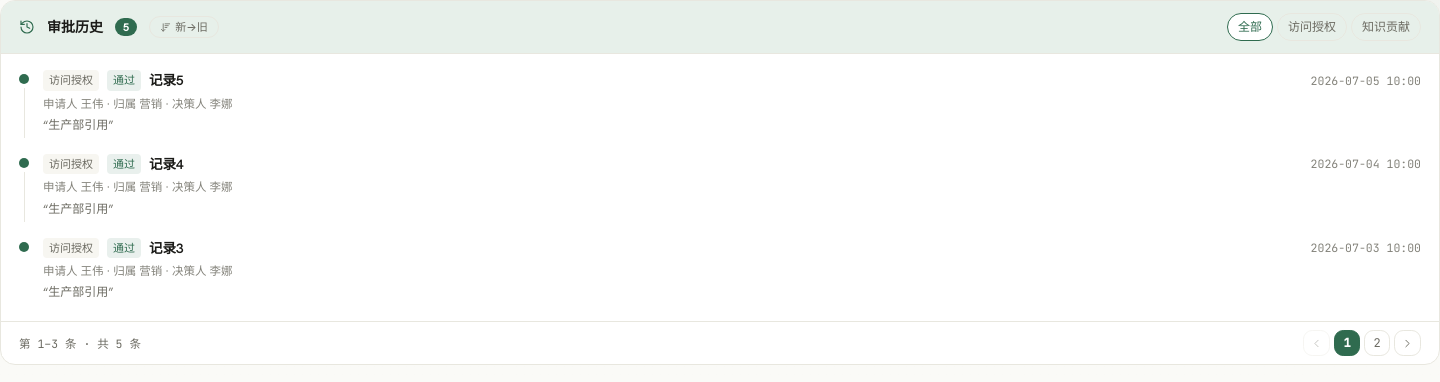
ApprovalHistory › 分页：5 条 → 3 条/页；默认新→旧；翻页脚「第 x–y 条 · 共 N 条」
Expected: the text "记录2" is not shown
Expected: the text with test id "pager-info" reads "第 1–3 条 · 共 5 条", [19, 336, 141, 351]
Click the button named "下一页". click: (1408, 343)
box: [1394, 330, 1421, 356]
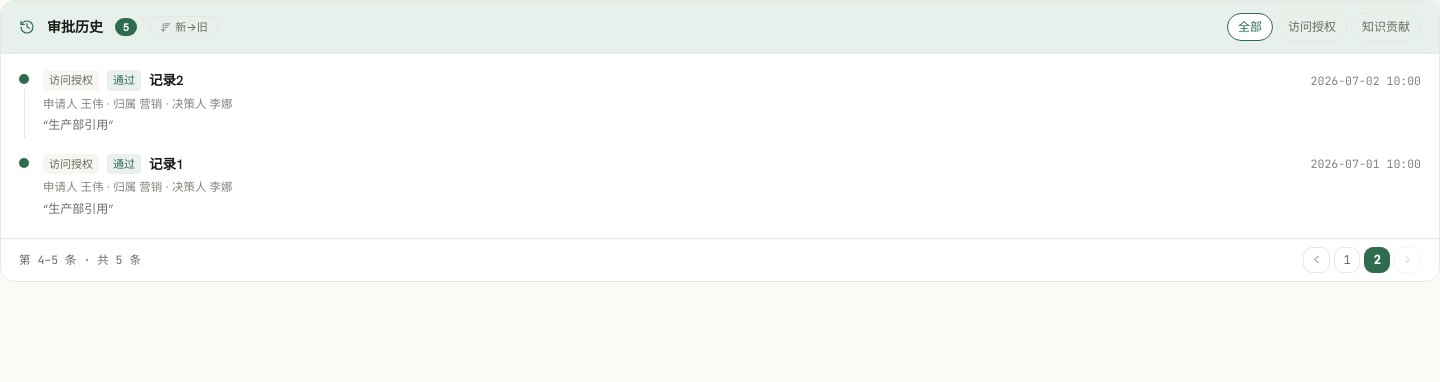
Result: the text "记录2" is shown at [149, 70, 184, 90]
Result: the text "记录1" is shown at [149, 154, 184, 174]
Result: the text with test id "pager-info" reads "第 4–5 条 · 共 5 条" at [19, 252, 141, 267]
排序切换 → 旧→新 + 回第 1 页
Click the button with test id "queue-sort". click: (184, 27)
box: [149, 16, 219, 38]
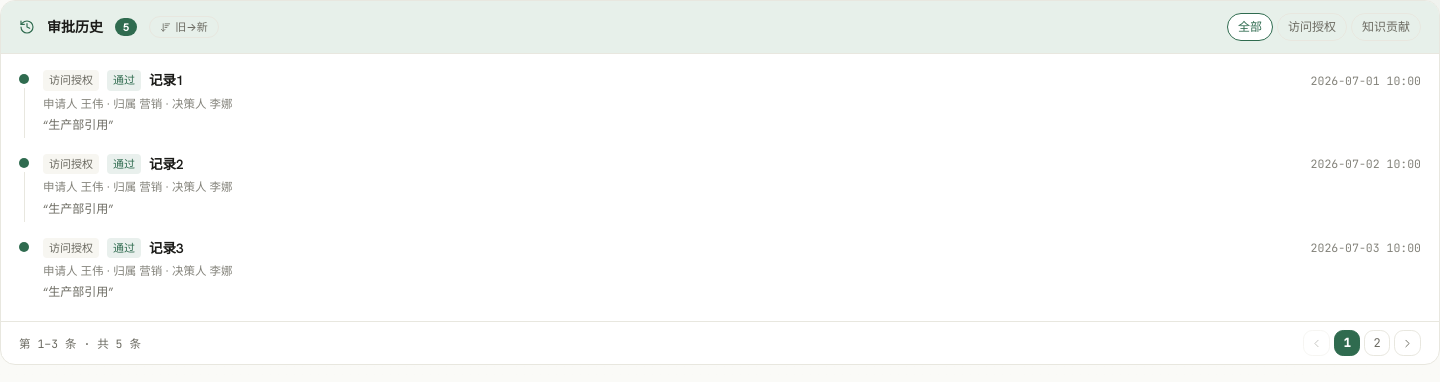
Expected: the text "记录4" is not shown
Result: the text "记录1" is shown at [149, 70, 184, 90]
Result: the button with test id "queue-sort" reads "旧→新" at [149, 16, 219, 38]
